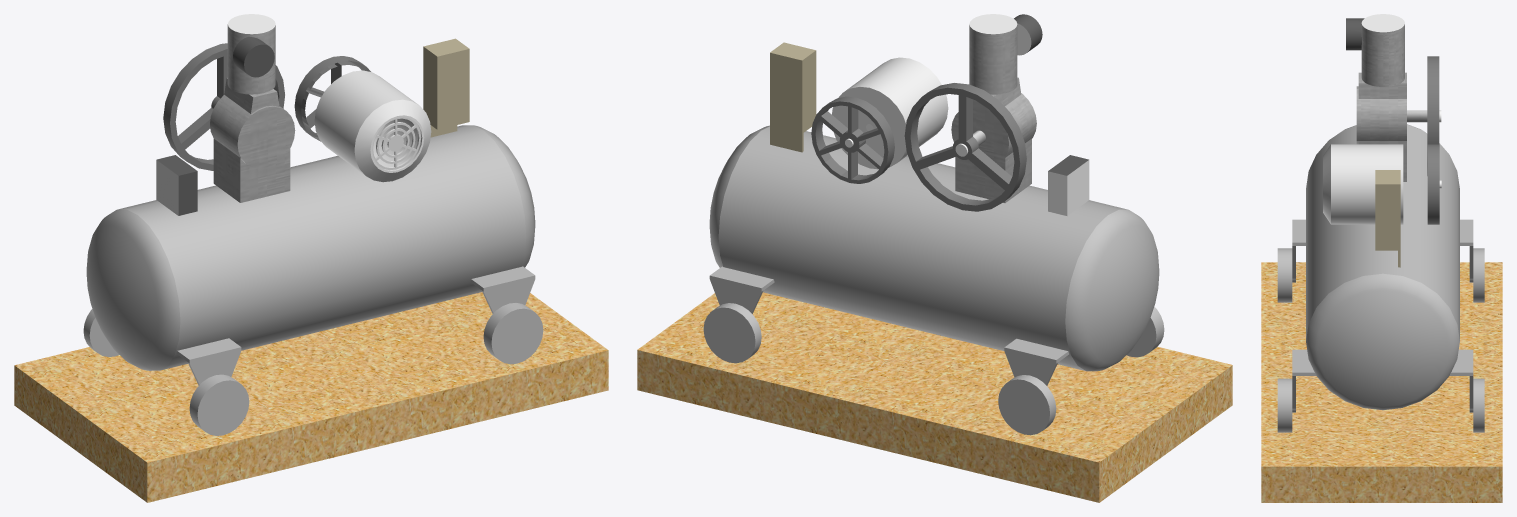
Rendered from Compressor.glb.
3 renders of one model, left to right at view 1: azimuth 30°, elevation 25°; view 2: azimuth 150°, elevation 25°; view 3: azimuth 270°, elevation 25°, orthographic. The views are drawn at different scales.
Parts seen in each view (by area): view 1: コンプレッサ; view 2: コンプレッサ; view 3: コンプレッサ.
Part boxes in pixels (x1,y1,x2,y2): コンプレッサ: (14, 14, 608, 502); コンプレッサ: (637, 14, 1232, 502); コンプレッサ: (1261, 14, 1502, 502).
Size of the model in its own units: 1.2 by 0.9641 by 0.6.
9 materials, 3 textured.
